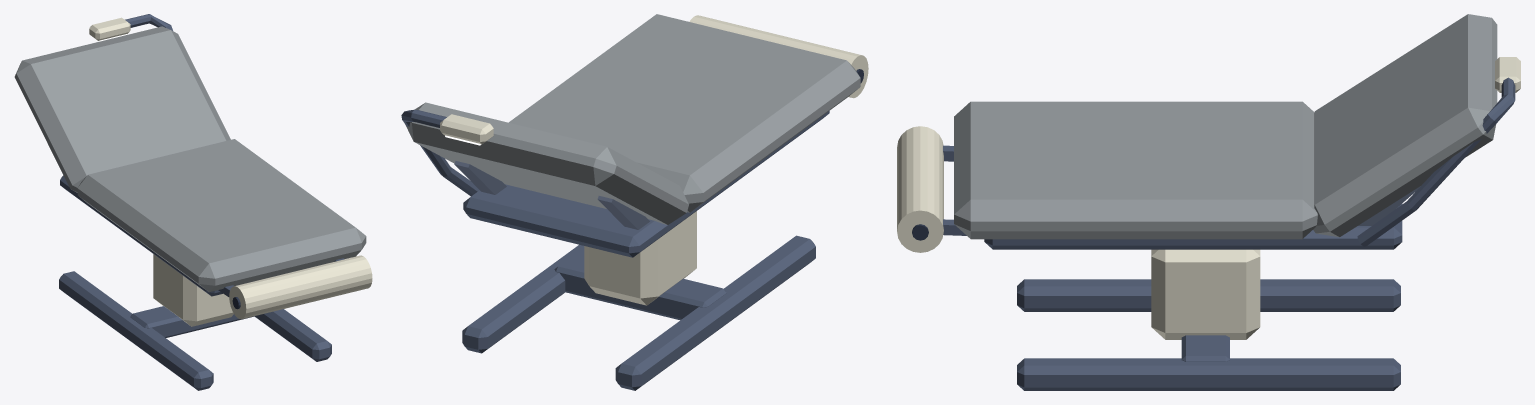
Rendered from bw_treatment_bed.glb.
3 views of the same model, side by side, from view 1: azimuth 30°, elevation 25°; view 2: azimuth 150°, elevation 25°; view 3: azimuth 270°, elevation 25° (orthographic). The views are drawn at different scales.
Parts seen in each view (by area): view 1: backrest, carriage, lamp_head; view 2: backrest, carriage, lamp_head, back_link; view 3: backrest, carriage, lamp_head.
Part boxes in pixels (bbox=[...]): backrest: bbox=[14, 26, 366, 292]; carriage: bbox=[59, 14, 344, 390]; lamp_head: bbox=[89, 17, 372, 326]; backrest: bbox=[405, 14, 860, 224]; carriage: bbox=[401, 109, 829, 390]; lamp_head: bbox=[440, 15, 868, 305]; back_link: bbox=[454, 161, 649, 229]; backrest: bbox=[954, 14, 1497, 239]; carriage: bbox=[943, 77, 1515, 390]; lamp_head: bbox=[897, 57, 1520, 339].
Size of the model in its own units: 0.85 by 1.05 by 2.
